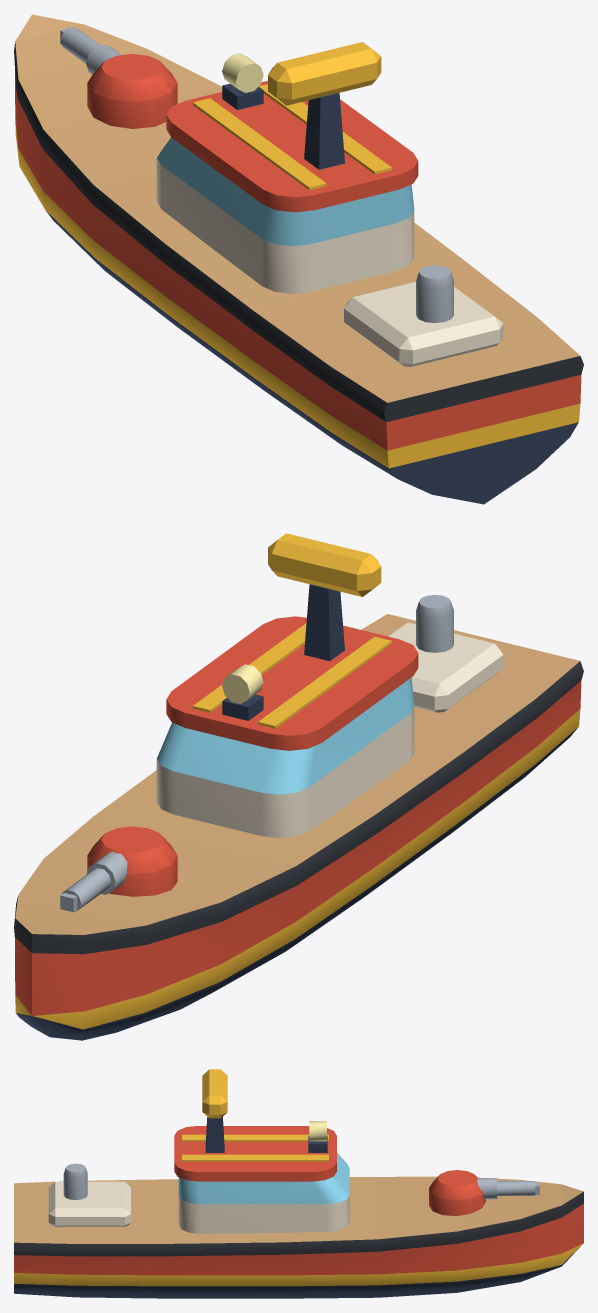
Rendered from unit-patrolboat.glb.
3 views of the same model, one above another, from view 1: azimuth 30°, elevation 25°; view 2: azimuth 150°, elevation 25°; view 3: azimuth 270°, elevation 25° (orthographic). The views are drawn at different scales.
Visible parts, largest first — view 1: deck, hull, roof, cabin, bumper, boot_stripe, hull_bottom, windows, engine_cover, turret, radar_dish, radar_mast (+6 smaller); view 2: deck, hull, roof, bumper, cabin, windows, boot_stripe, engine_cover, radar_dish, hull_bottom, turret, radar_mast (+6 smaller); view 3: deck, hull, bumper, boot_stripe, hull_bottom, roof, cabin, windows, engine_cover, turret, radar_dish, roof_stripe_right (+5 smaller).
Boxes of the visible parts, box(x1,y1,x2,y2) form: deck: box(15, 14, 579, 402); hull: box(15, 72, 581, 450); roof: box(166, 80, 418, 212); cabin: box(156, 158, 414, 293); bumper: box(14, 42, 583, 422); boot_stripe: box(15, 120, 580, 468); hull_bottom: box(45, 210, 578, 504); windows: box(157, 137, 414, 246); engine_cover: box(344, 282, 503, 366); turret: box(87, 54, 177, 128); radar_dish: box(268, 42, 381, 105); radar_mast: box(304, 93, 344, 169); deck: box(15, 614, 579, 934); hull: box(15, 681, 581, 1015); roof: box(166, 616, 418, 750); bumper: box(14, 661, 583, 954); cabin: box(156, 707, 414, 837); windows: box(157, 677, 414, 794); boot_stripe: box(15, 709, 580, 1029); engine_cover: box(388, 622, 503, 712); radar_dish: box(268, 533, 381, 596); hull_bottom: box(16, 727, 578, 1040); turret: box(87, 826, 177, 896); radar_mast: box(304, 584, 344, 660); deck: box(14, 1176, 583, 1243); hull: box(14, 1204, 583, 1275); bumper: box(14, 1191, 583, 1256); boot_stripe: box(14, 1243, 583, 1286); hull_bottom: box(14, 1247, 579, 1298); roof: box(174, 1126, 336, 1181); cabin: box(178, 1195, 349, 1233); windows: box(178, 1153, 349, 1204); engine_cover: box(48, 1181, 130, 1227); turret: box(429, 1170, 485, 1215); radar_dish: box(202, 1069, 227, 1118); roof_stripe_right: box(182, 1154, 328, 1161).
Size of the model in its own units: 5 by 7.5 by 18.
